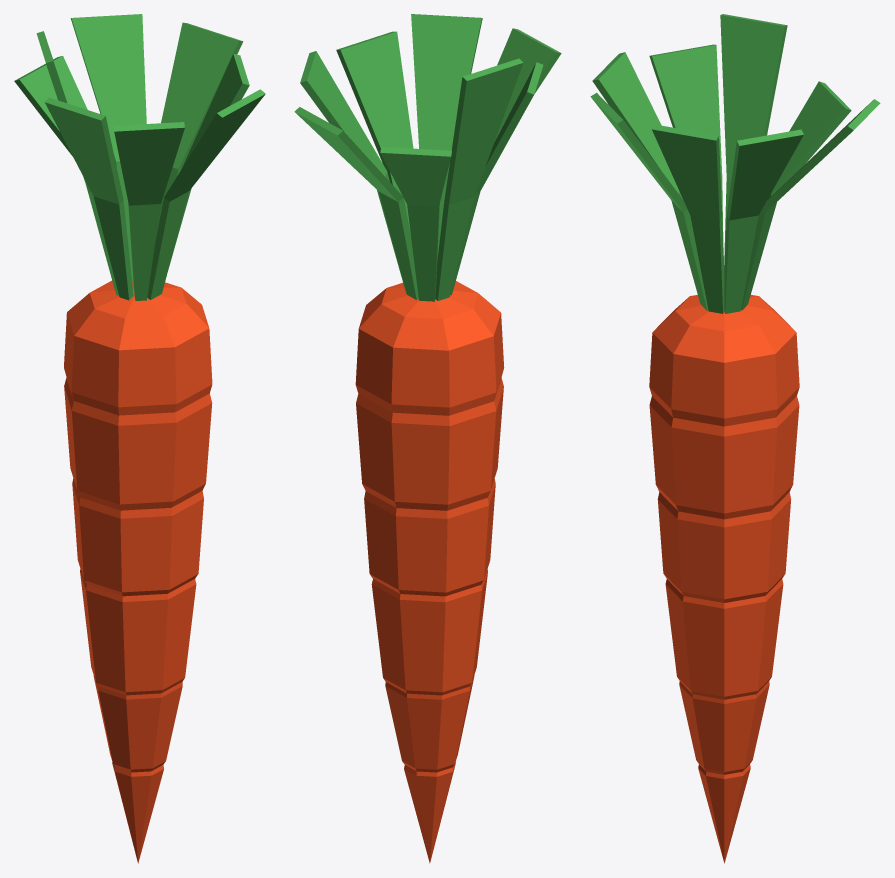
The model's file is Carrot_01.obj.
3 views of the same model, side by side, from view 1: azimuth 30°, elevation 25°; view 2: azimuth 150°, elevation 25°; view 3: azimuth 270°, elevation 25° (orthographic). The views are drawn at different scales.
Visible parts, largest first — view 1: Carrot_Circle; view 2: Carrot_Circle; view 3: Carrot_Circle.
Part boxes in pixels (<box>): Carrot_Circle: <box>14,14,265,863</box>; Carrot_Circle: <box>294,14,561,863</box>; Carrot_Circle: <box>590,14,880,863</box>.
Size of the model in its own units: 3.15 by 11.74 by 3.82.
